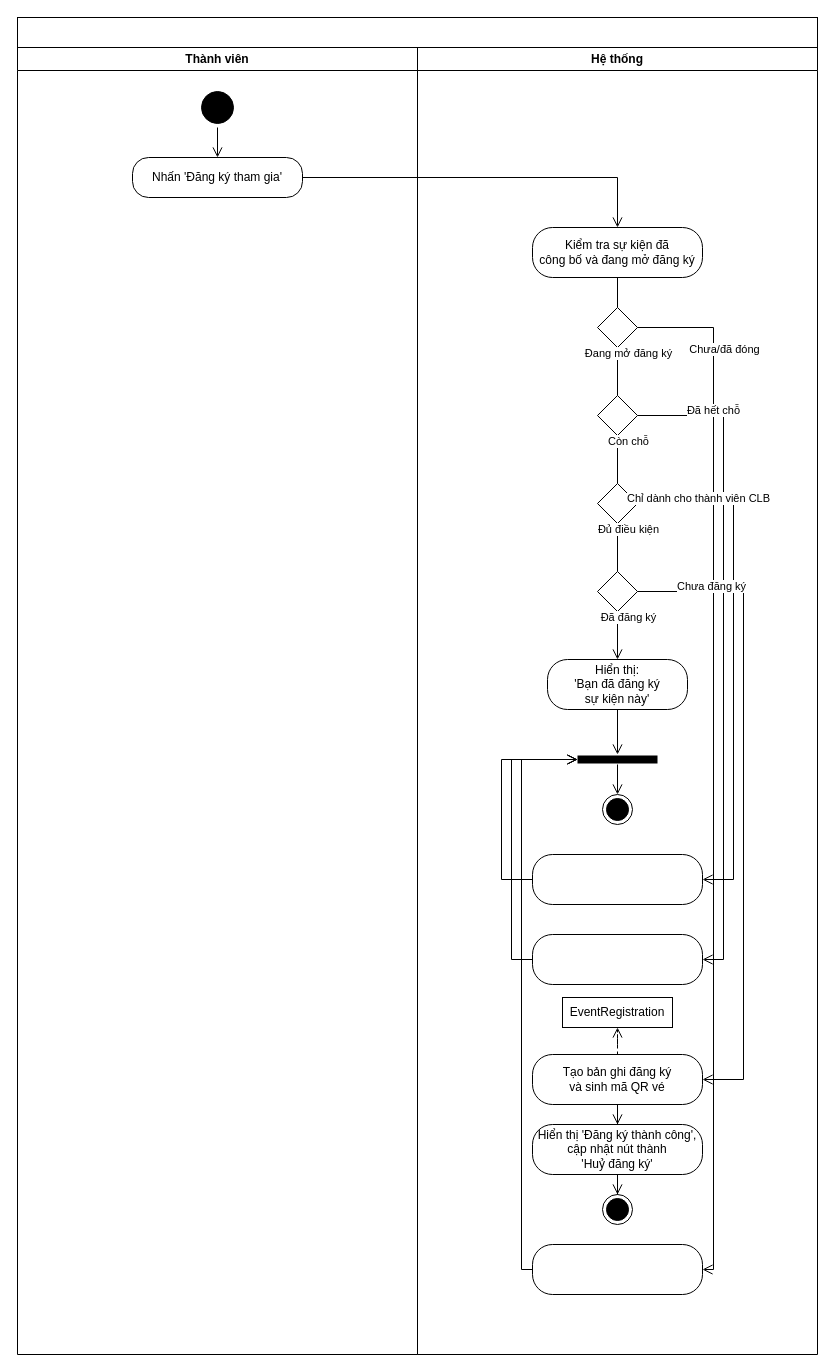
Some shapes in this 835 by 1372 pixel diagram are drawn without their labels. Each missing label, with the box of its shape:
Hiển thị: 'Sự kiện chưa/đã đóng đăng ký': (532, 1244, 702, 1294)
Hiển thị: 'Sự kiện chỉ dành cho thành viên CLB': (532, 854, 702, 904)
Hiển thị: 'Sự kiện đã hết chỗ': (532, 934, 702, 984)
ĐĂNG KÝ THAM GIA SỰ KIỆN: (16, 16, 818, 48)
